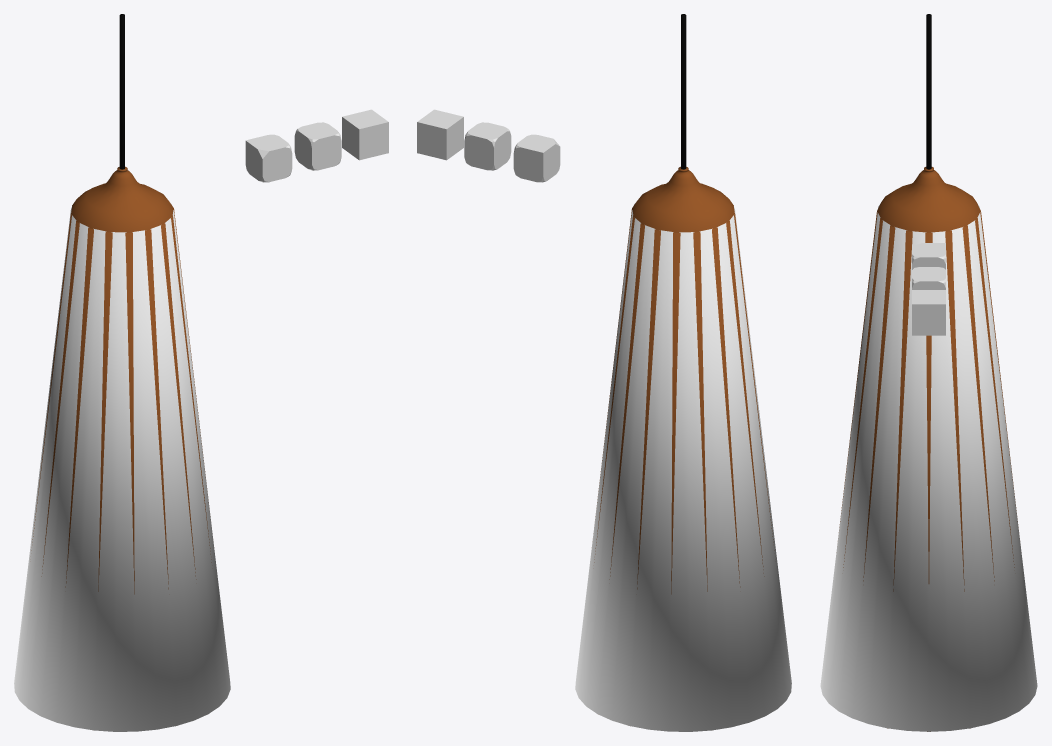
Rendered from lamp2.glb.
3 views of the same model, side by side, from view 1: azimuth 30°, elevation 25°; view 2: azimuth 150°, elevation 25°; view 3: azimuth 270°, elevation 25° (orthographic).
Parts seen in each view (by area): view 1: Cylinder.003, Cylinder.002, Cylinder, Cube.002, Cube, Cube.001, Cylinder.001; view 2: Cylinder.003, Cylinder.002, Cylinder, Cube.002, Cube.001, Cube, Cylinder.001; view 3: Cylinder.003, Cylinder.002, Cylinder, Cube.002, Cylinder.001, Cube, Cube.001.
Boxes of the visible parts, x1,y1,x2,y2 form: Cylinder.003: (14, 203, 230, 731); Cylinder.002: (31, 209, 211, 594); Cylinder: (71, 166, 173, 232); Cube.002: (342, 109, 388, 160); Cube: (245, 134, 292, 182); Cube.001: (294, 122, 341, 170); Cylinder.001: (119, 14, 124, 169); Cylinder.003: (575, 203, 791, 731); Cylinder.002: (594, 209, 774, 594); Cylinder: (632, 166, 734, 232); Cube.002: (417, 109, 463, 160); Cube.001: (464, 122, 511, 170); Cube: (513, 134, 560, 182); Cylinder.001: (681, 14, 686, 169); Cylinder.003: (820, 205, 1037, 731); Cylinder.002: (838, 212, 1019, 731); Cylinder: (877, 167, 980, 232); Cube.002: (912, 290, 945, 335); Cylinder.001: (926, 14, 931, 169); Cube: (912, 243, 945, 269); Cube.001: (912, 267, 945, 289).
Bounding box in the file's own units: 5.48 × 9.99 × 2.93.
